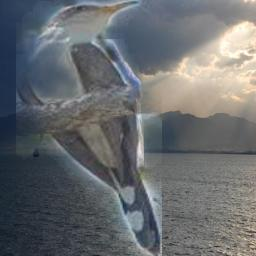Cuckoo: (16, 0, 162, 256)
Swallow: (89, 39, 144, 167)
